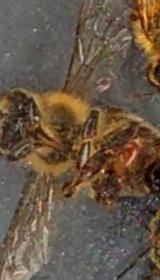varroa_mite: (116, 135, 148, 174)
